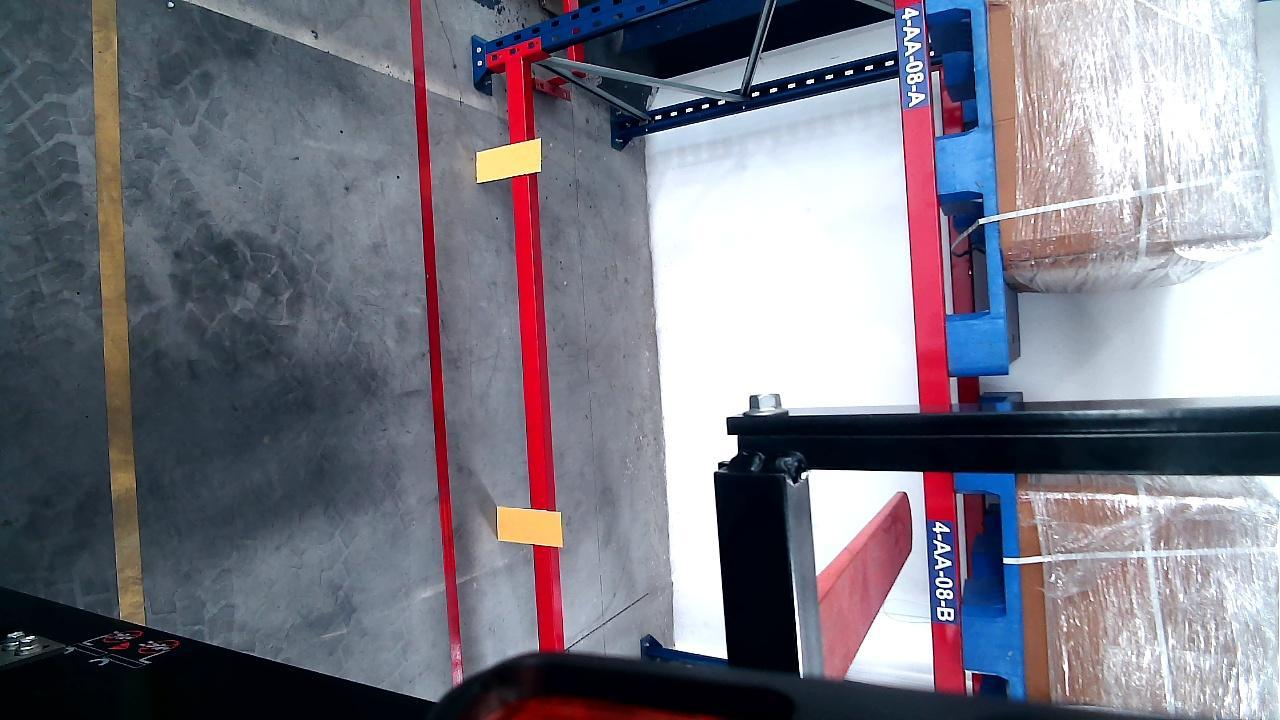red_line: (406, 0, 462, 689)
yellow_line: (90, 0, 145, 628)
